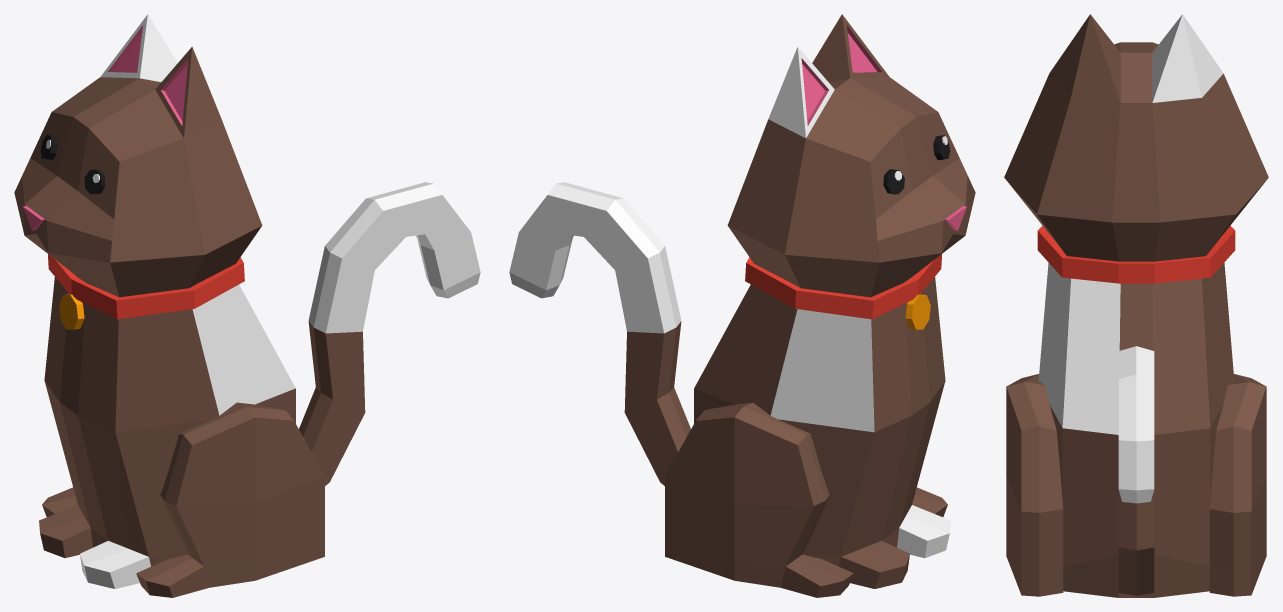
Rendered from Cat.glb.
3 views of the same model, side by side, from view 1: azimuth 30°, elevation 25°; view 2: azimuth 150°, elevation 25°; view 3: azimuth 270°, elevation 25° (orthographic). The views are drawn at different scales.
Visible parts, largest first — view 1: Cube.004; view 2: Cube.004; view 3: Cube.004.
Boxes of the visible parts, left/top/right/bottom form: Cube.004: left=14, top=14, right=480, bottom=597; Cube.004: left=509, top=14, right=975, bottom=597; Cube.004: left=1004, top=14, right=1268, bottom=597.
Size of the model in its own units: 175 by 193 by 87.04.
